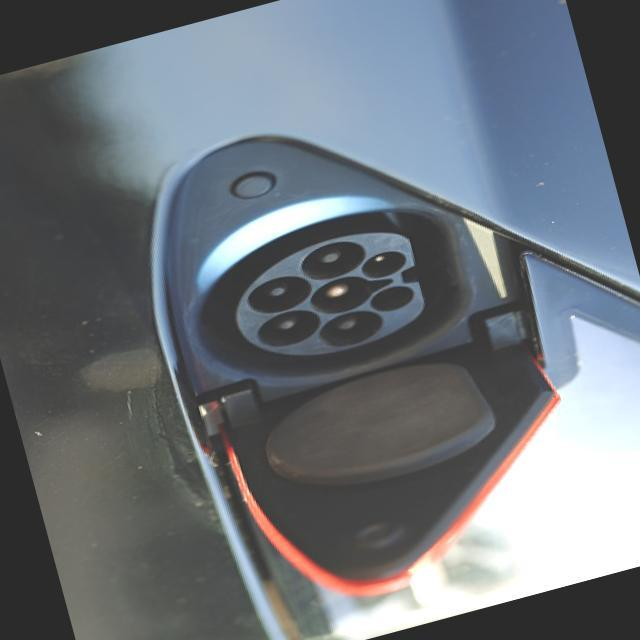Type 2: (203, 222, 441, 398)
